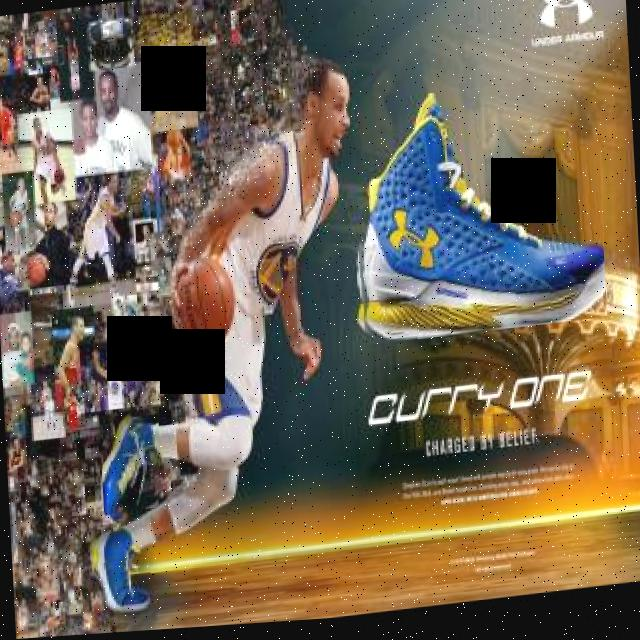shoe: (345, 81, 607, 352), (99, 409, 164, 517), (87, 525, 153, 616)
